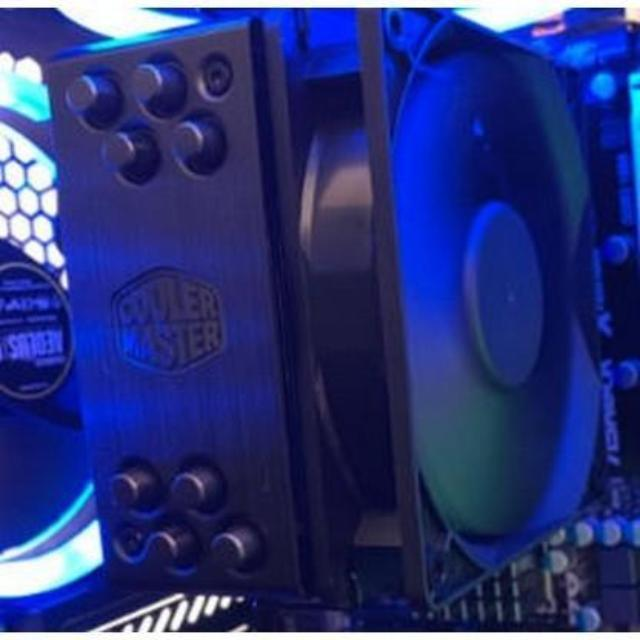CPU_Fan: (43, 3, 617, 606)
